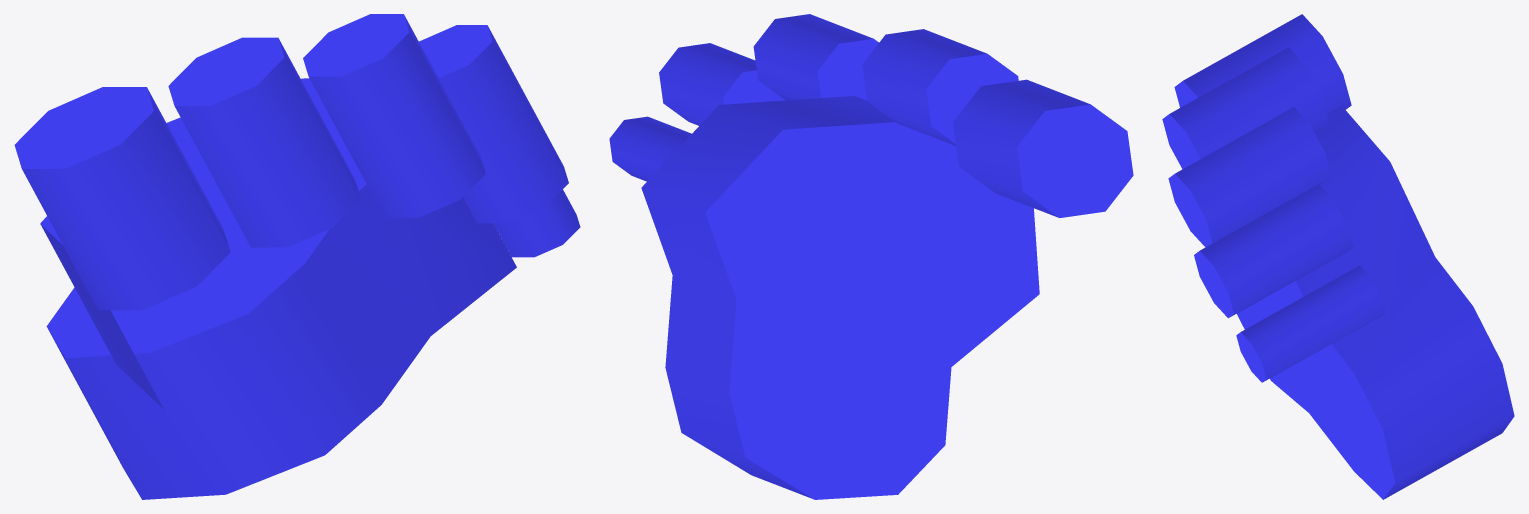
The model's file is ps2_save-icons_steppingselection.glb.
3 renders of one model, left to right at view 1: azimuth 30°, elevation 25°; view 2: azimuth 150°, elevation 25°; view 3: azimuth 270°, elevation 25°, orthographic. The views are drawn at different scales.
Visible parts, largest first — view 1: ssfoot.ico; view 2: ssfoot.ico; view 3: ssfoot.ico.
Part boxes in pixels (x1,y1,x2,y2): ssfoot.ico: (14,14,580,499); ssfoot.ico: (609,14,1133,499); ssfoot.ico: (1162,14,1514,499).
Bounding box in the file's own units: 3.51 × 3.38 × 2.64.
Materials: 1 (1 with a texture image).
